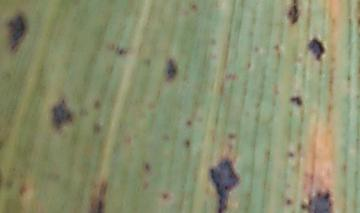tarspot: (208, 156, 240, 213), (6, 14, 27, 55), (302, 190, 337, 213), (48, 100, 71, 128), (306, 35, 325, 62), (164, 56, 177, 83), (287, 1, 299, 24), (91, 197, 107, 213), (290, 94, 303, 108), (115, 46, 128, 56), (182, 136, 192, 149), (18, 185, 28, 197), (225, 131, 236, 141), (161, 191, 171, 201), (92, 99, 101, 110), (143, 163, 152, 173), (285, 198, 294, 207), (93, 123, 101, 133), (190, 1, 197, 11), (274, 43, 282, 51), (184, 119, 194, 125), (287, 152, 295, 158)
